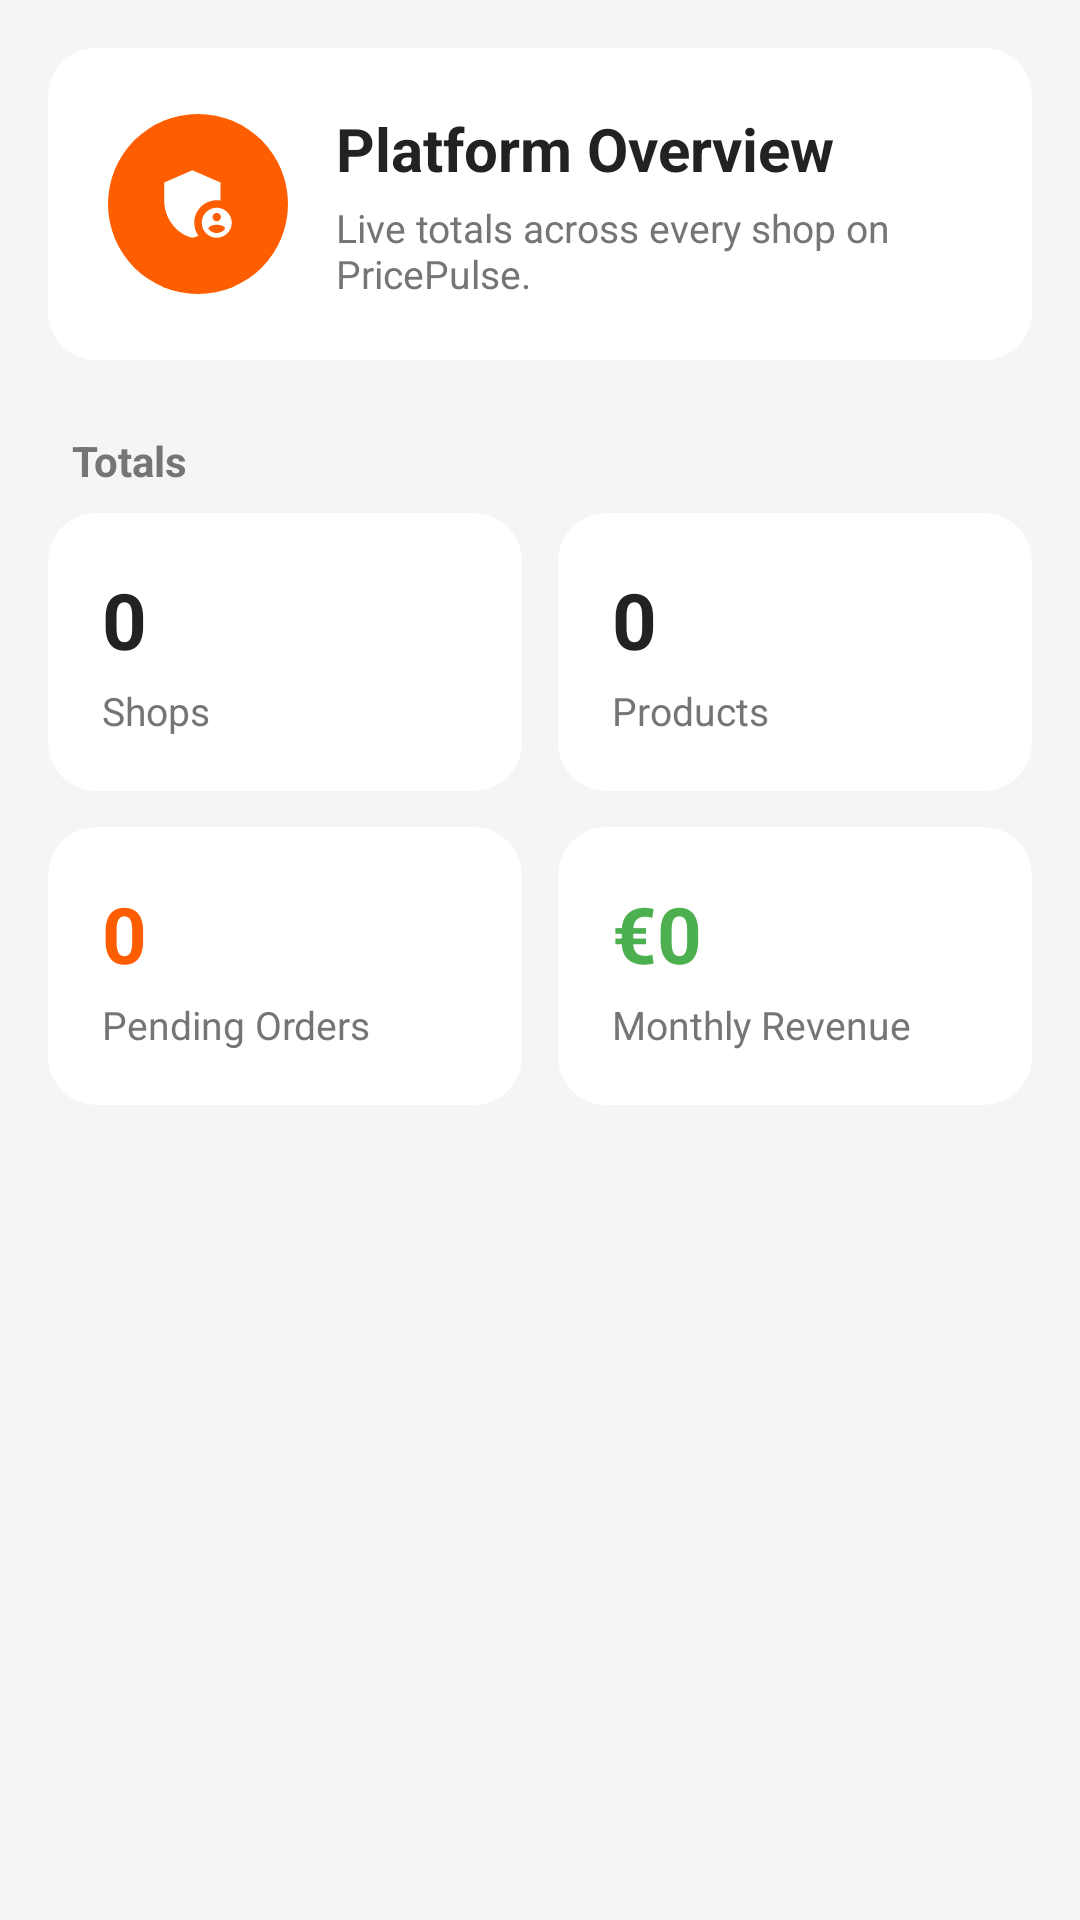

Screen size 1080 x 1920. Icon name, then its center in pixels as (x,y):
admin panel: (198,204)
